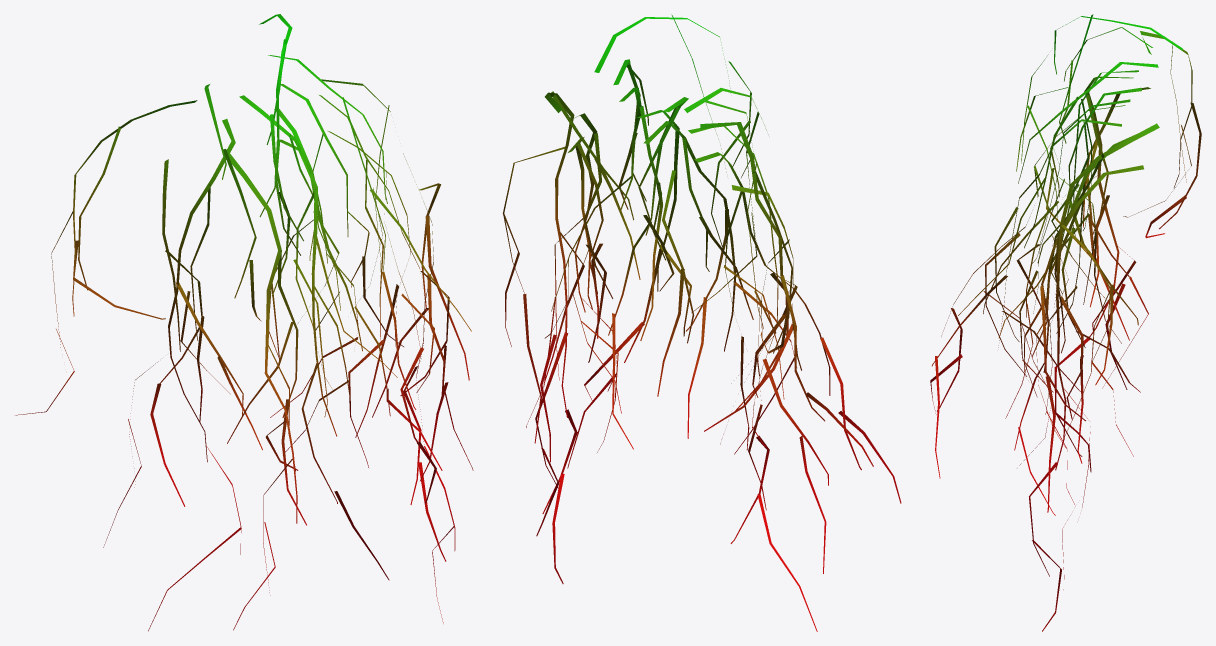
The model's file is Var13_LOD5.fbx.
3 renders of one model, left to right at view 1: azimuth 30°, elevation 25°; view 2: azimuth 150°, elevation 25°; view 3: azimuth 270°, elevation 25°, orthographic. The views are drawn at different scales.
Visible parts, largest first — view 1: _ik0z_Var13_LOD5; view 2: _ik0z_Var13_LOD5; view 3: _ik0z_Var13_LOD5.
Boxes of the visible parts, x1,y1,x2,y2 form: _ik0z_Var13_LOD5: (15, 14, 473, 631); _ik0z_Var13_LOD5: (502, 14, 901, 631); _ik0z_Var13_LOD5: (930, 14, 1201, 631).
Size of the model in its own units: 116 by 165 by 72.62.
